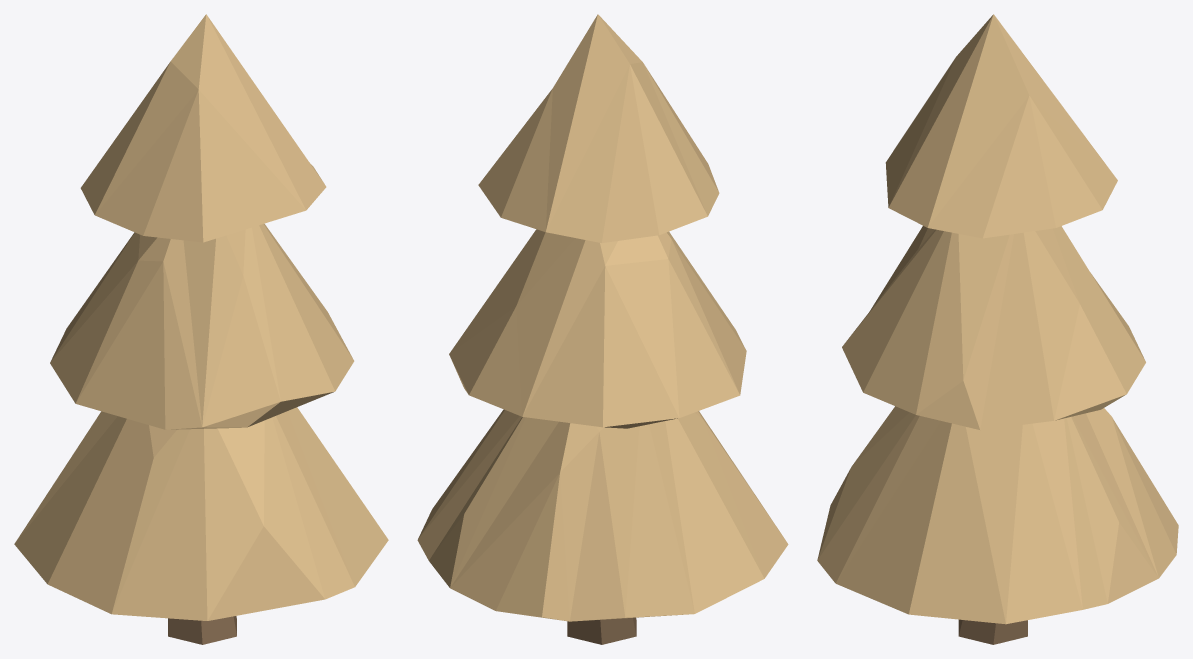
Rendered from pineTree2.fbx.
3 renders of one model, left to right at view 1: azimuth 30°, elevation 25°; view 2: azimuth 150°, elevation 25°; view 3: azimuth 270°, elevation 25°, orthographic.
Parts seen in each view (by area): view 1: Leaves, Branch; view 2: Leaves, Branch; view 3: Leaves, Branch.
Part boxes in pixels (left/top/right/bottom): Leaves: left=14, top=14, right=388, bottom=620; Branch: left=168, top=616, right=236, bottom=644; Leaves: left=417, top=14, right=788, bottom=621; Branch: left=567, top=617, right=636, bottom=644; Leaves: left=817, top=14, right=1178, bottom=624; Branch: left=958, top=619, right=1027, bottom=644.
Bounding box in the file's own units: 3.78 × 6.88 × 3.66.
